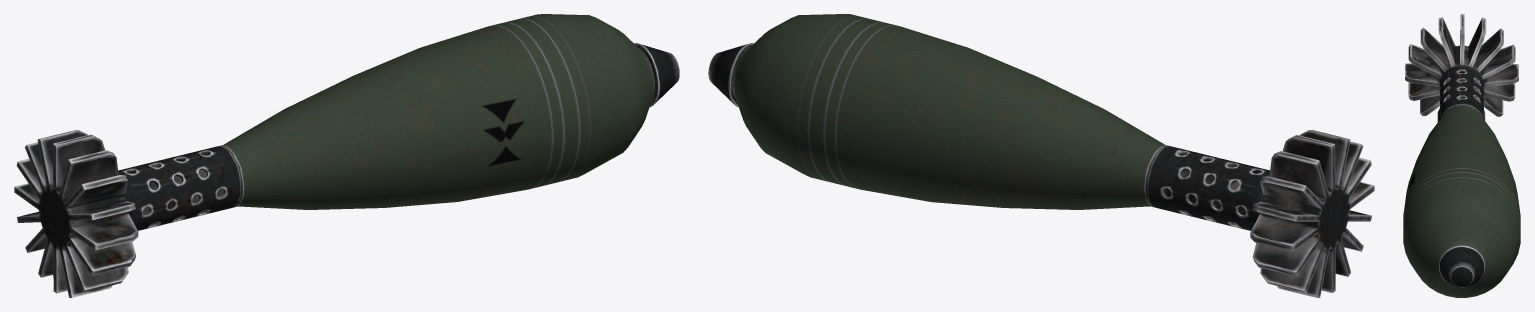
The model's file is mortar_shell.glb.
3 views of the same model, side by side, from view 1: azimuth 30°, elevation 25°; view 2: azimuth 150°, elevation 25°; view 3: azimuth 270°, elevation 25° (orthographic). The views are drawn at different scales.
Parts seen in each view (by area): view 1: low 2; view 2: low 2; view 3: low 2.
Part boxes in pixels (x1,y1,x2,y2): low 2: (14,14,679,297); low 2: (708,14,1374,297); low 2: (1403,14,1520,297).
Bounding box in the file's own units: 395 × 92.82 × 92.82.
1 material, 1 textured.
